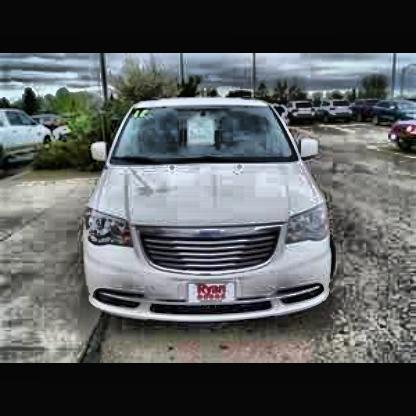Chrysler Town and Country Minivan 2012: (86, 99, 335, 323)
